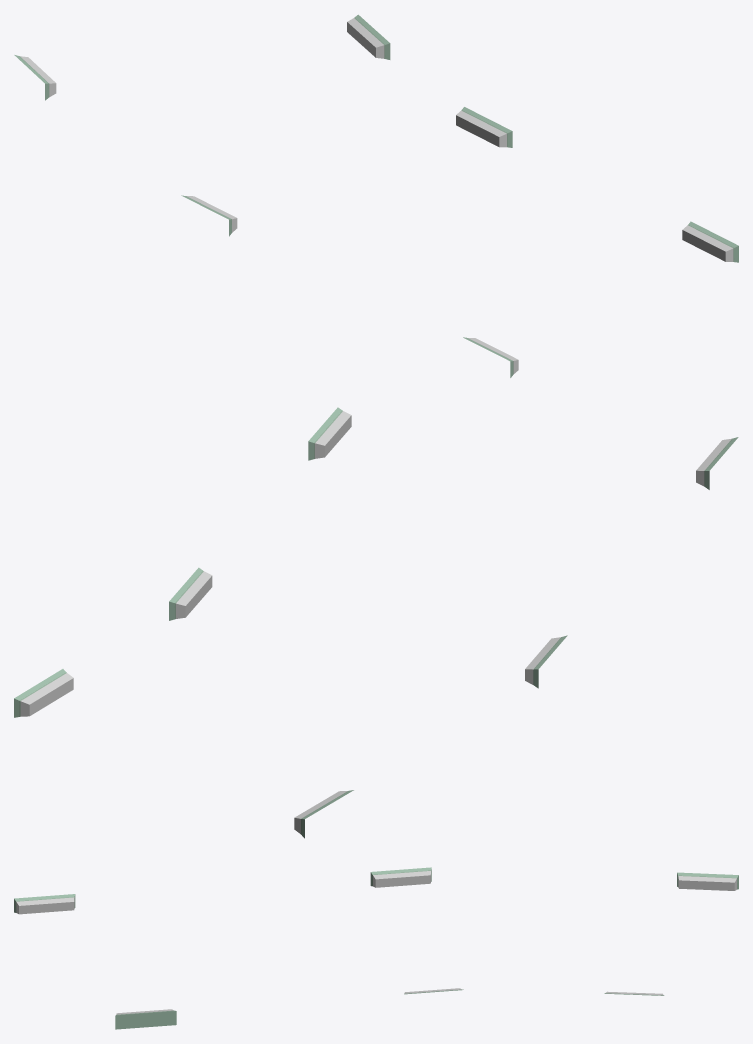
File: kd_stage_13612f_4_3_bounded.glb
3 views of the same model, one above another, from view 1: azimuth 30°, elevation 25°; view 2: azimuth 150°, elevation 25°; view 3: azimuth 270°, elevation 25° (orthographic). The views are drawn at different scales.
Visible parts, largest first — view 1: kd_stage_13612f_4_3_bounded; view 2: kd_stage_13612f_4_3_bounded; view 3: kd_stage_13612f_4_3_bounded.
Part boxes in pixels (x1,y1,x2,y2): kd_stage_13612f_4_3_bounded: [14, 14, 738, 377]; kd_stage_13612f_4_3_bounded: [14, 407, 738, 838]; kd_stage_13612f_4_3_bounded: [14, 867, 738, 1029].
Bounding box in the file's own units: 11.27 × 0.5024 × 23.32.
1 material, 1 textured.
